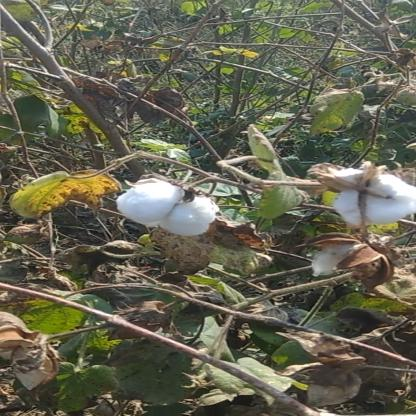cotton_ready: (108, 179, 241, 241), (326, 154, 414, 232)
